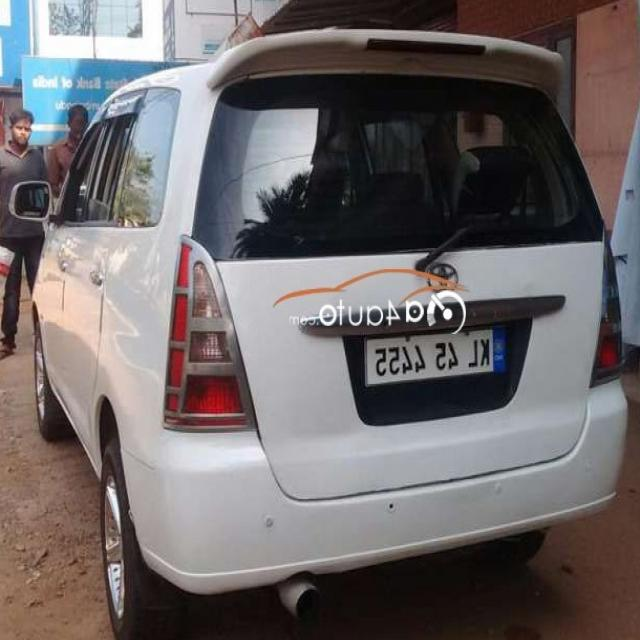license_plate: (361, 315, 512, 401)
